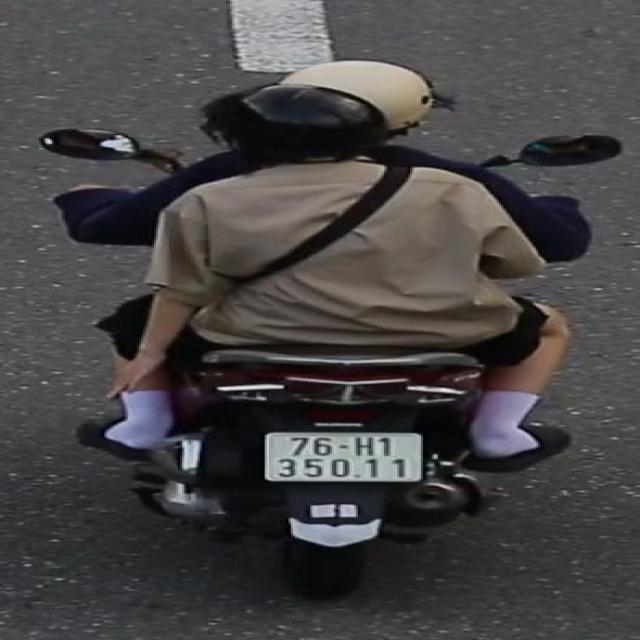LP: (254, 428, 429, 484)
helmet: (196, 82, 418, 186), (282, 56, 464, 136)
